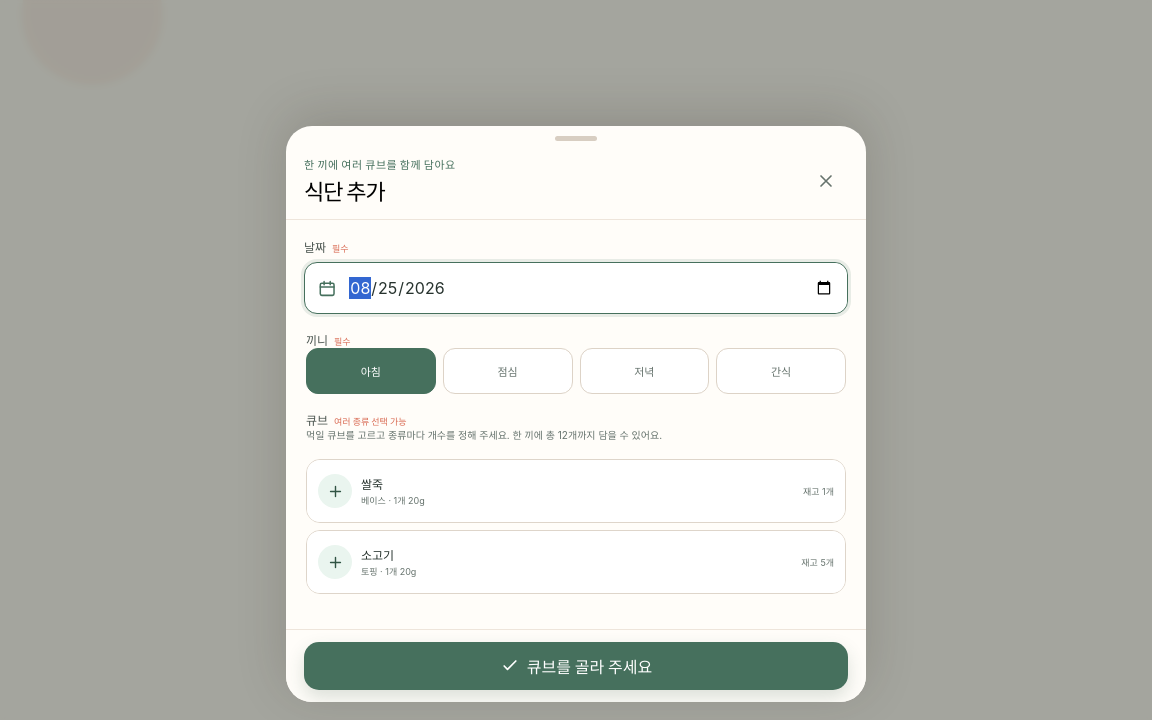
Test case: 식단 추가 시트 › 재고보다 많이 고른 행만 부족 상태를 표시한다
Click the button with aria-label "쌀죽 선택".
click(335, 491)  # box [307,460,845,522]
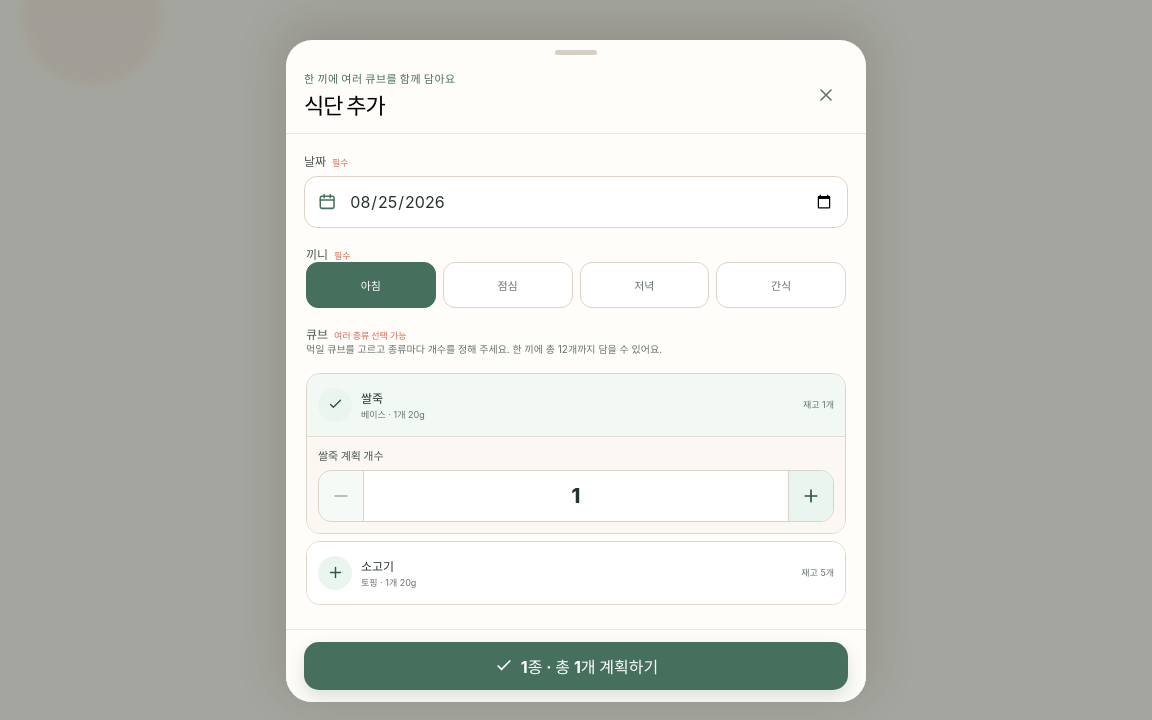
Click the button with aria-label "소고기 선택".
click(335, 573)  # box [307,542,845,604]
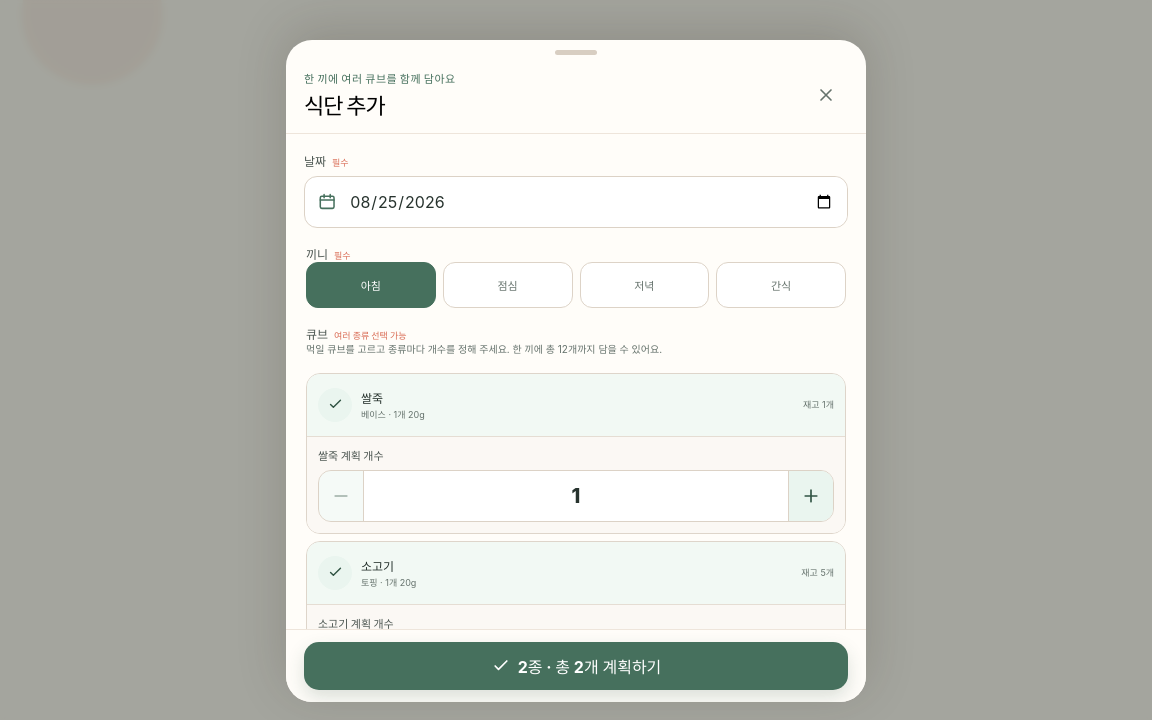
Click the button named "쌀죽 계획 개수 1개 늘리기".
click(811, 496)  # box [789,471,833,521]
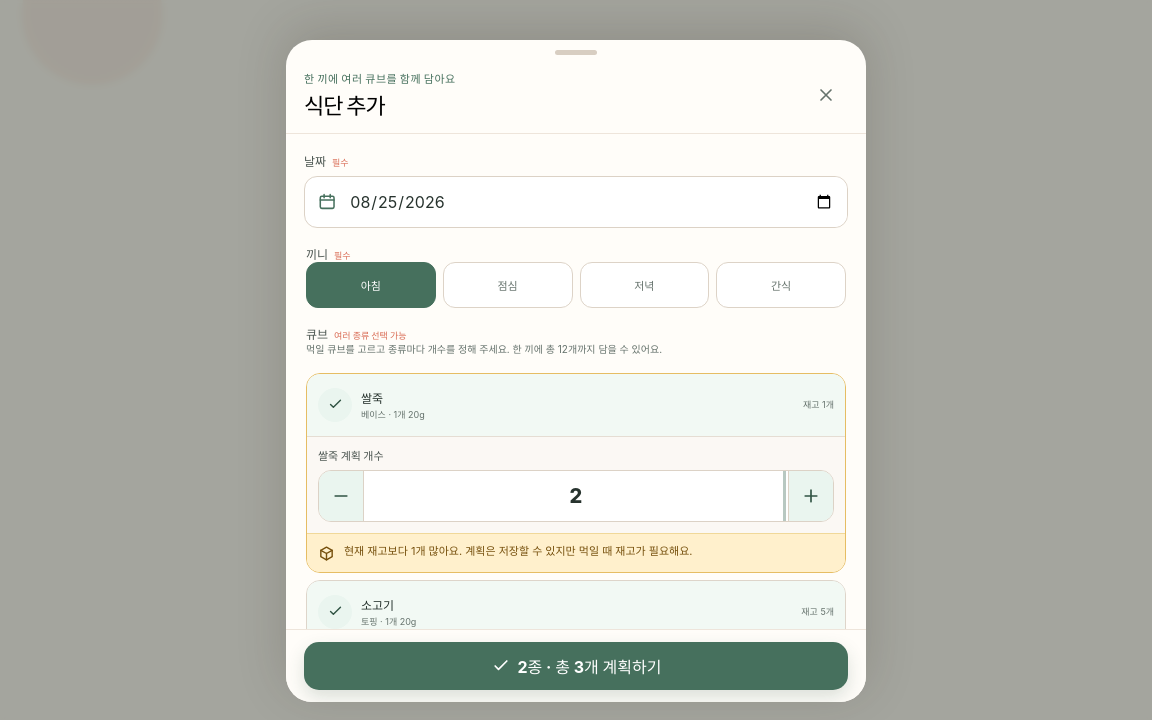
Now the message shows "현재 재고보다 1개 많아요.", box [307,533,845,572]
